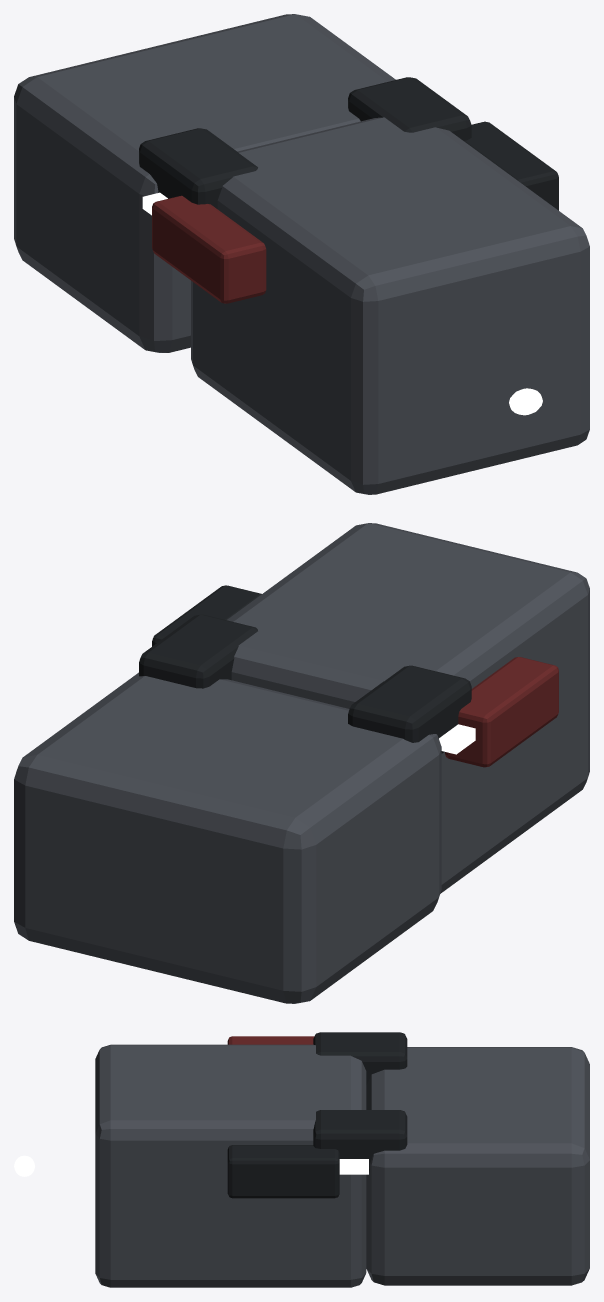
3 views of the same model, one above another, from view 1: azimuth 30°, elevation 25°; view 2: azimuth 150°, elevation 25°; view 3: azimuth 270°, elevation 25° (orthographic). The views are drawn at different scales.
Visible parts, largest first — view 1: RIMWARD_HULL, RIMWARD_ENGINE_GLOW; view 2: RIMWARD_HULL, RIMWARD_EMISSIVE; view 3: RIMWARD_HULL, RIMWARD_EMISSIVE, RIMWARD_ENGINE_GLOW.
Boxes of the visible parts, x1=… form: RIMWARD_HULL: x1=14, y1=14, x2=589, y2=494; RIMWARD_ENGINE_GLOW: x1=509, y1=388, x2=542, y2=415; RIMWARD_HULL: x1=14, y1=523, x2=589, y2=1003; RIMWARD_EMISSIVE: x1=439, y1=724, x2=475, y2=754; RIMWARD_HULL: x1=95, y1=1032, x2=589, y2=1287; RIMWARD_EMISSIVE: x1=339, y1=1159, x2=368, y2=1174; RIMWARD_ENGINE_GLOW: x1=14, y1=1155, x2=34, y2=1176.
Size of the model in its own units: 8.58 by 5.37 by 16.63.
